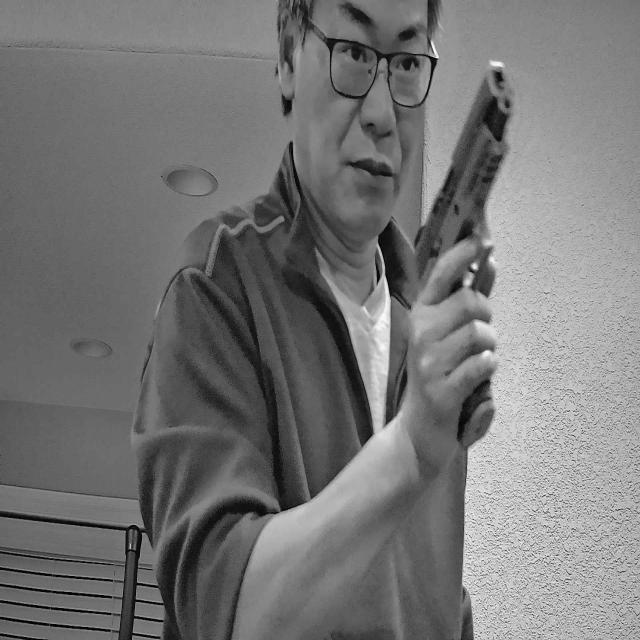Hand-Gun: (415, 56, 516, 445)
